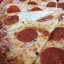pepperoni: (41, 45, 61, 64), (15, 29, 39, 43), (48, 24, 64, 41), (5, 15, 19, 29), (5, 4, 21, 15), (34, 16, 56, 21), (30, 6, 40, 15)
pizza: (1, 1, 64, 64)
